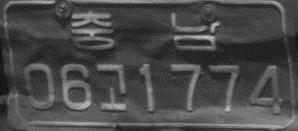0: (23, 62, 55, 110)
1: (133, 62, 163, 112)
4: (249, 64, 283, 114)
6: (60, 61, 93, 110)
7: (208, 63, 240, 113), (170, 62, 201, 112)
고: (95, 61, 128, 111)
충남_D: (70, 9, 221, 50)
